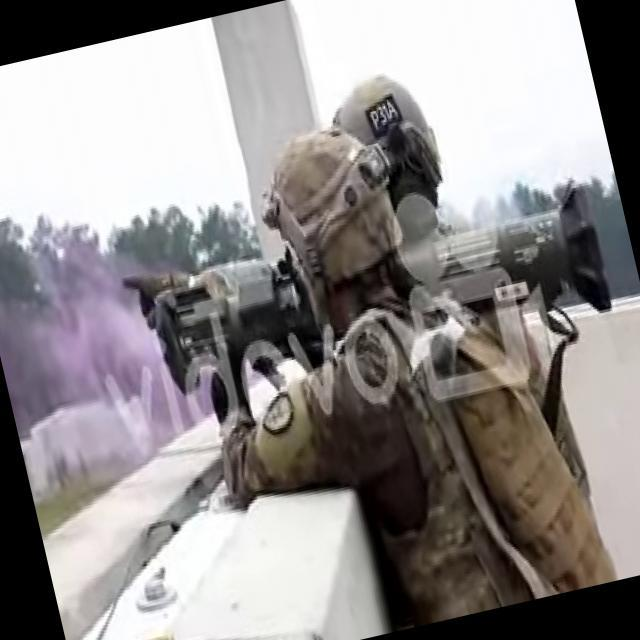rocket: (122, 172, 616, 412)
